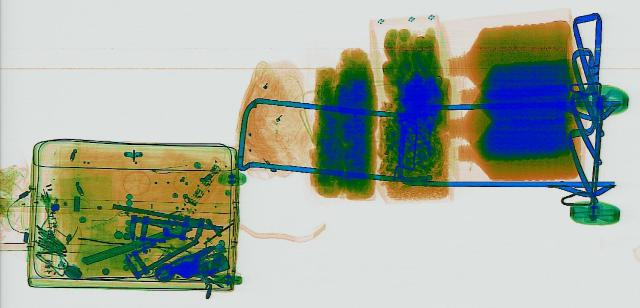Pliers: (156, 241, 226, 274)
